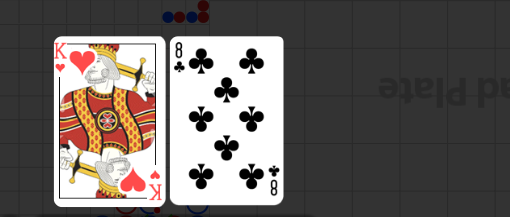8C: (267, 164, 281, 198)
